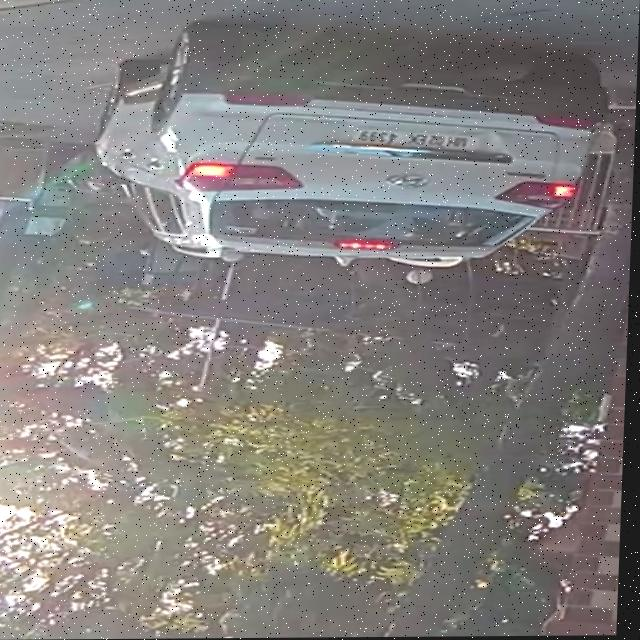plate: (350, 126, 479, 152)
